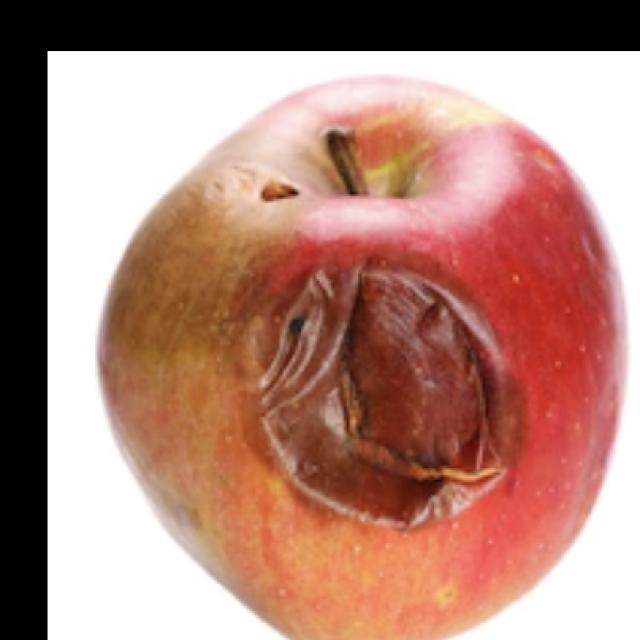Rotten: (106, 72, 640, 640)
